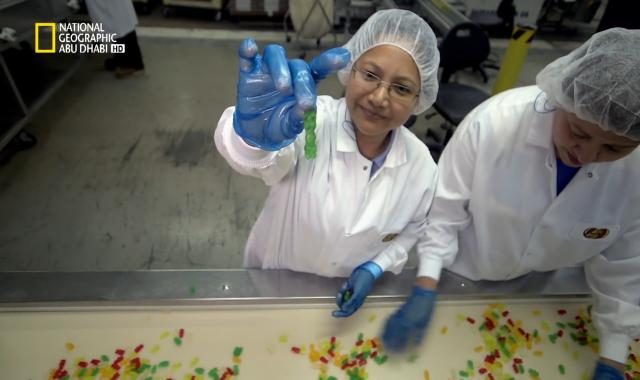hairnet: (537, 24, 640, 170), (338, 10, 437, 130)
